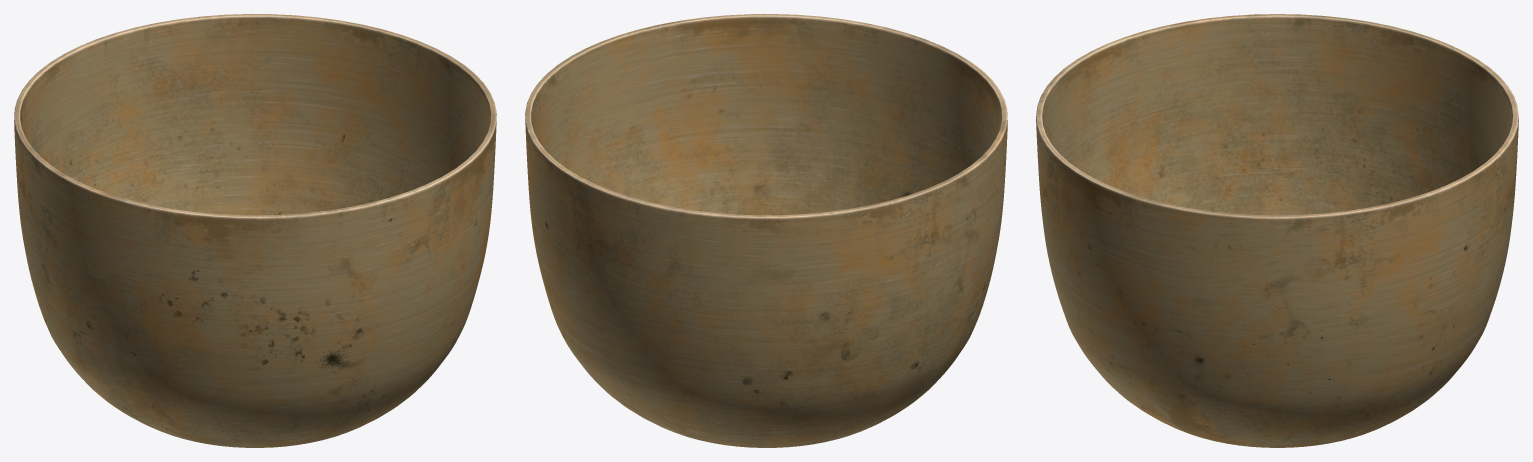
The model's file is SM_RiceBowl24_B.fbx.
3 renders of one model, left to right at view 1: azimuth 30°, elevation 25°; view 2: azimuth 150°, elevation 25°; view 3: azimuth 270°, elevation 25°, orthographic.
Parts seen in each view (by area): view 1: SM_RiceBowl24_B; view 2: SM_RiceBowl24_B; view 3: SM_RiceBowl24_B.
Part boxes in pixels (left/top/right/bottom): SM_RiceBowl24_B: left=14, top=14, right=496, bottom=447; SM_RiceBowl24_B: left=525, top=14, right=1007, bottom=447; SM_RiceBowl24_B: left=1036, top=14, right=1518, bottom=447.
Bounding box in the file's own units: 14.22 × 9.13 × 14.22.
1 material, 1 textured.
